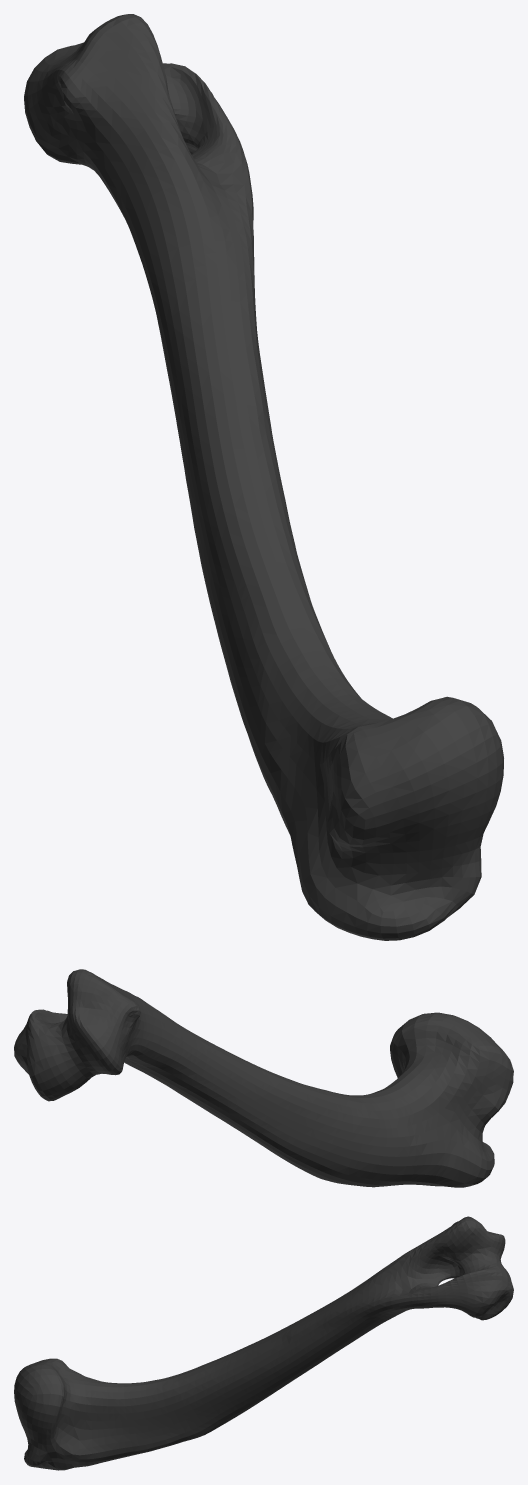
File: Humerus.glb
3 renders of one model, top to bottom at view 1: azimuth 30°, elevation 25°; view 2: azimuth 150°, elevation 25°; view 3: azimuth 270°, elevation 25°, orthographic. The views are drawn at different scales.
Visible parts, largest first — view 1: Humerus; view 2: Humerus; view 3: Humerus.
Part boxes in pixels (x1,y1,x2,y2): Humerus: (24, 14, 503, 940); Humerus: (14, 969, 513, 1187); Humerus: (14, 1216, 513, 1470).
Bounding box in the file's own units: 0.7535 × 1.36 × 2.16.
Materials: 1 (1 with a texture image).
